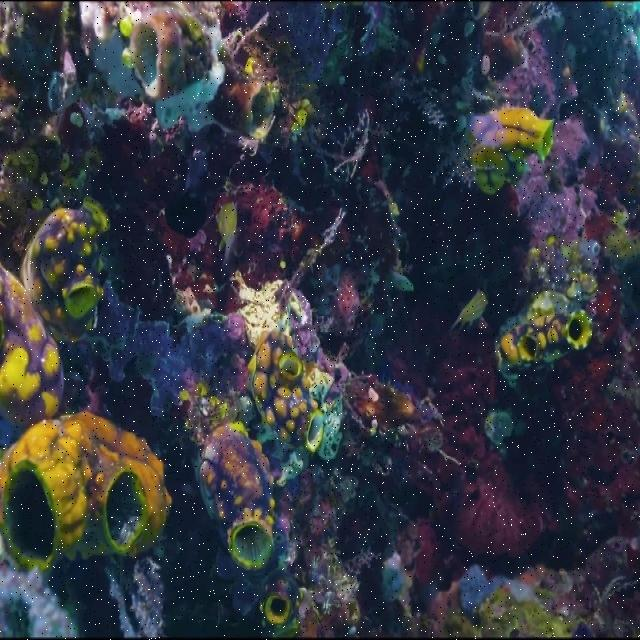reefs: (0, 411, 169, 574), (129, 9, 280, 144), (179, 373, 276, 572), (19, 193, 113, 343), (244, 328, 334, 454), (0, 265, 64, 427), (496, 289, 595, 389), (460, 107, 557, 191), (259, 563, 305, 639)
